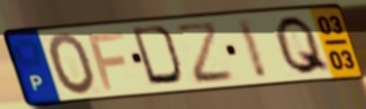D: (129, 24, 188, 89)
F: (85, 29, 128, 93)
I: (234, 17, 271, 82)
O: (46, 31, 99, 98)
Q: (272, 13, 334, 77)
Z: (172, 19, 239, 87)
